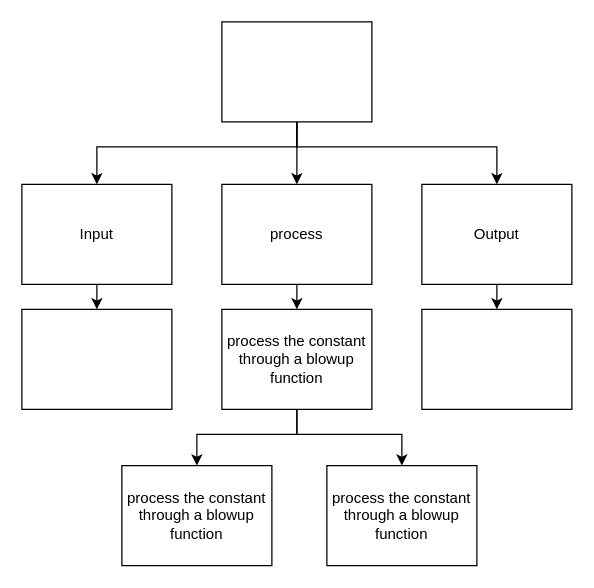
This 594x588 diagram has some shape labels left out. Here are the shapes that lost their labels. From the top down, the box of each, then its label:
(221, 21, 372, 122): Change const with blowup function
(21, 308, 172, 409): any constant
(421, 308, 572, 409): give the processed constant back
